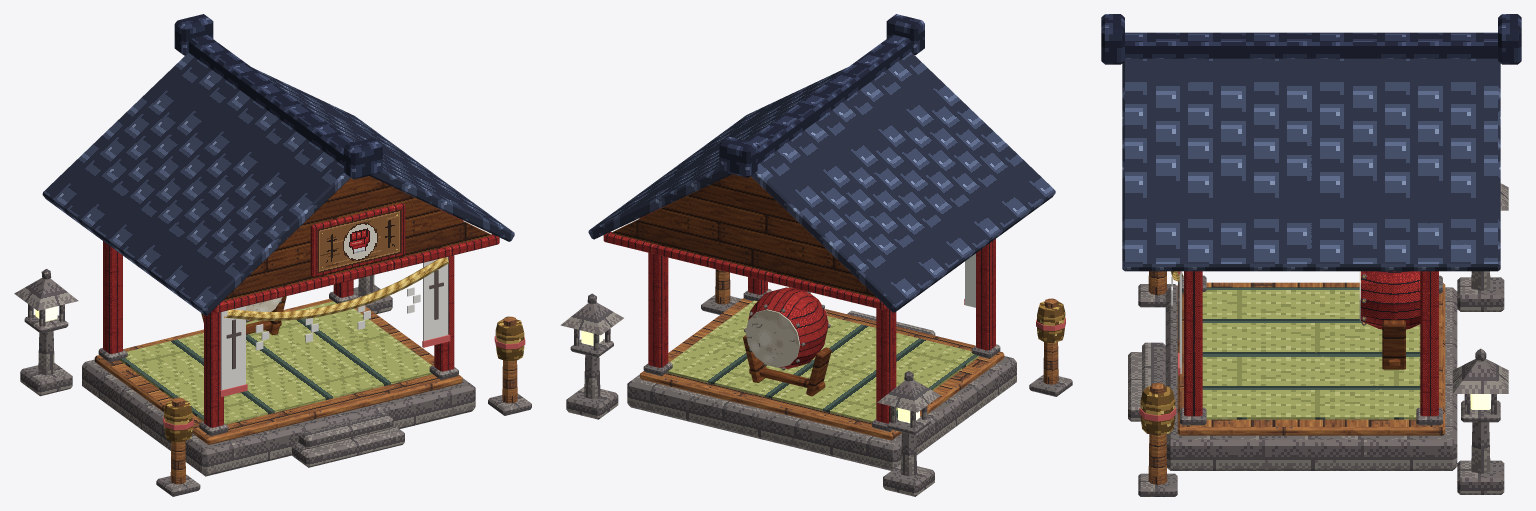
File: dojo.glb
The picture shows the model from 3 angles, left to right: view 1: azimuth 30°, elevation 25°; view 2: azimuth 150°, elevation 25°; view 3: azimuth 270°, elevation 25°; orthographic projection. The views are drawn at different scales.
Parts seen in each view (by area): view 1: Roof, Base, Tatami, Frame, Banners, Lantern-1, Sign, Shimenawa, DummyR, DummyL, SignBoard, Lantern1; view 2: Roof, Base, Tatami, Frame, Drum, Lantern-1, Lantern1, DummyL, DrumStand, DummyR, Banners; view 3: Roof, Tatami, Base, Frame, Lantern1, Drum, DummyR, Lantern-1, DrumStand, DummyL.
Boxes of the visible parts, left/top/right/bottom form: Roof: left=42, top=14, right=514, bottom=315; Base: left=82, top=299, right=475, bottom=476; Tatami: left=120, top=301, right=432, bottom=424; Frame: left=98, top=208, right=463, bottom=436; Banners: left=220, top=257, right=450, bottom=396; Lantern-1: left=14, top=269, right=78, bottom=396; Sign: left=317, top=209, right=401, bottom=273; Shimenawa: left=224, top=257, right=448, bottom=350; DummyR: left=488, top=316, right=531, bottom=415; DummyL: left=156, top=397, right=200, bottom=496; SignBoard: left=310, top=203, right=405, bottom=277; Lantern1: left=353, top=275, right=392, bottom=313; Roof: left=588, top=14, right=1055, bottom=312; Base: left=627, top=298, right=1016, bottom=470; Tatami: left=667, top=300, right=979, bottom=422; Frame: left=639, top=208, right=1000, bottom=431; Drum: left=744, top=287, right=830, bottom=370; Lantern-1: left=877, top=371, right=940, bottom=496; Lantern1: left=560, top=293, right=623, bottom=419; DummyL: left=1029, top=298, right=1072, bottom=396; DrumStand: left=743, top=335, right=831, bottom=396; DummyR: left=701, top=269, right=741, bottom=314; Banners: left=964, top=253, right=975, bottom=307; Roof: left=1101, top=14, right=1521, bottom=271; Tatami: left=1202, top=287, right=1420, bottom=419; Base: left=1128, top=282, right=1457, bottom=470; Frame: left=1180, top=271, right=1442, bottom=425; Lantern1: left=1453, top=348, right=1508, bottom=494; Drum: left=1359, top=271, right=1420, bottom=329; DummyR: left=1138, top=383, right=1177, bottom=496; Lantern-1: left=1457, top=183, right=1508, bottom=311; DrumStand: left=1382, top=320, right=1405, bottom=369; DummyL: left=1138, top=271, right=1177, bottom=307.
Bounding box in the file's own units: 6.21 × 5.23 × 5.34.
Materials: 16 (12 with a texture image).
